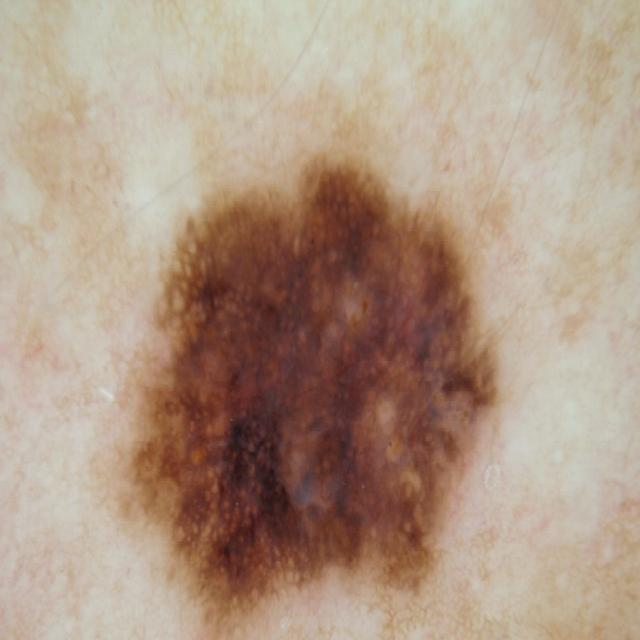Melanoma: (131, 123, 521, 640)
